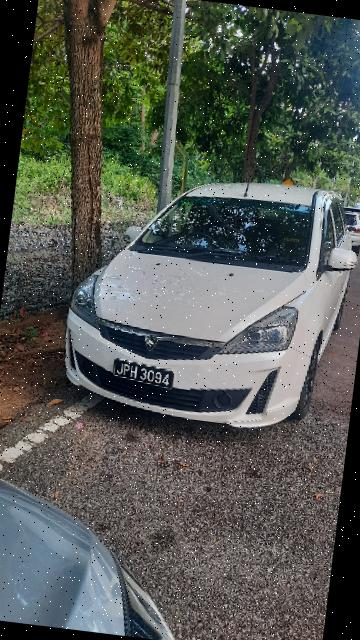License_Plate: (110, 357, 179, 393)
car: (53, 156, 360, 453)
